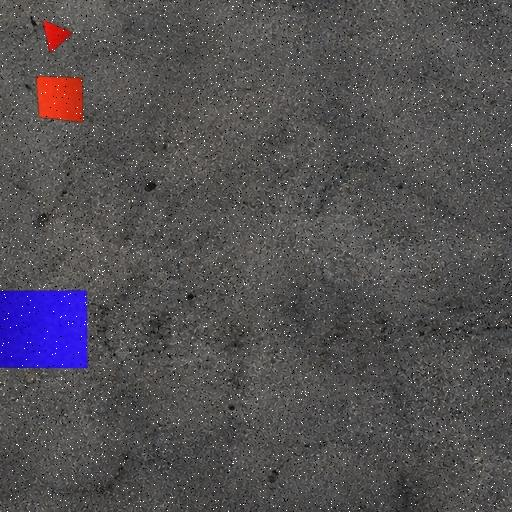BLUE_SQUARE: (0, 290, 88, 368)
RED_SQUARE: (35, 75, 84, 123)
